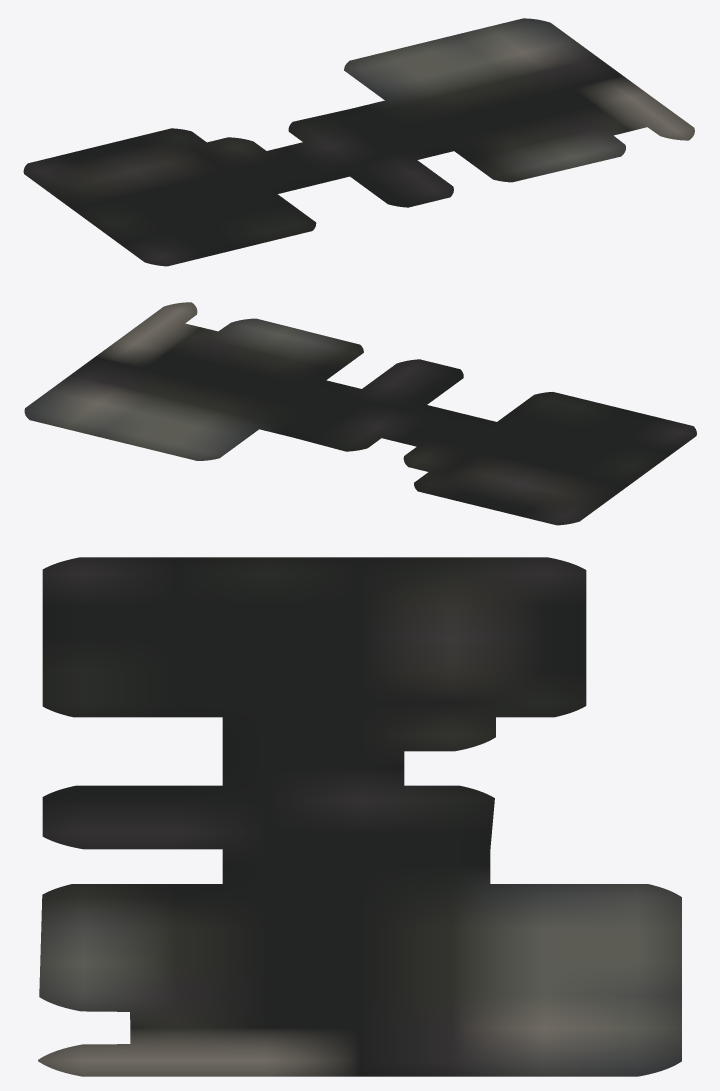
File: SM_EC_Fence_Card_Part_06.fbx
The picture shows the model from 3 angles, top to bottom: view 1: azimuth 30°, elevation 25°; view 2: azimuth 150°, elevation 25°; view 3: azimuth 270°, elevation 25°; orthographic projection. The views are drawn at different scales.
Visible parts, largest first — view 1: SM_EC_Fence_Card_Part_06; view 2: SM_EC_Fence_Card_Part_06; view 3: SM_EC_Fence_Card_Part_06.
Boxes of the visible parts, left/top/right/bottom form: SM_EC_Fence_Card_Part_06: left=23, top=18, right=694, bottom=266; SM_EC_Fence_Card_Part_06: left=24, top=302, right=696, bottom=525; SM_EC_Fence_Card_Part_06: left=38, top=557, right=681, bottom=1076.
Size of the model in its own units: 0.2494 by 0.1307 by 0.
